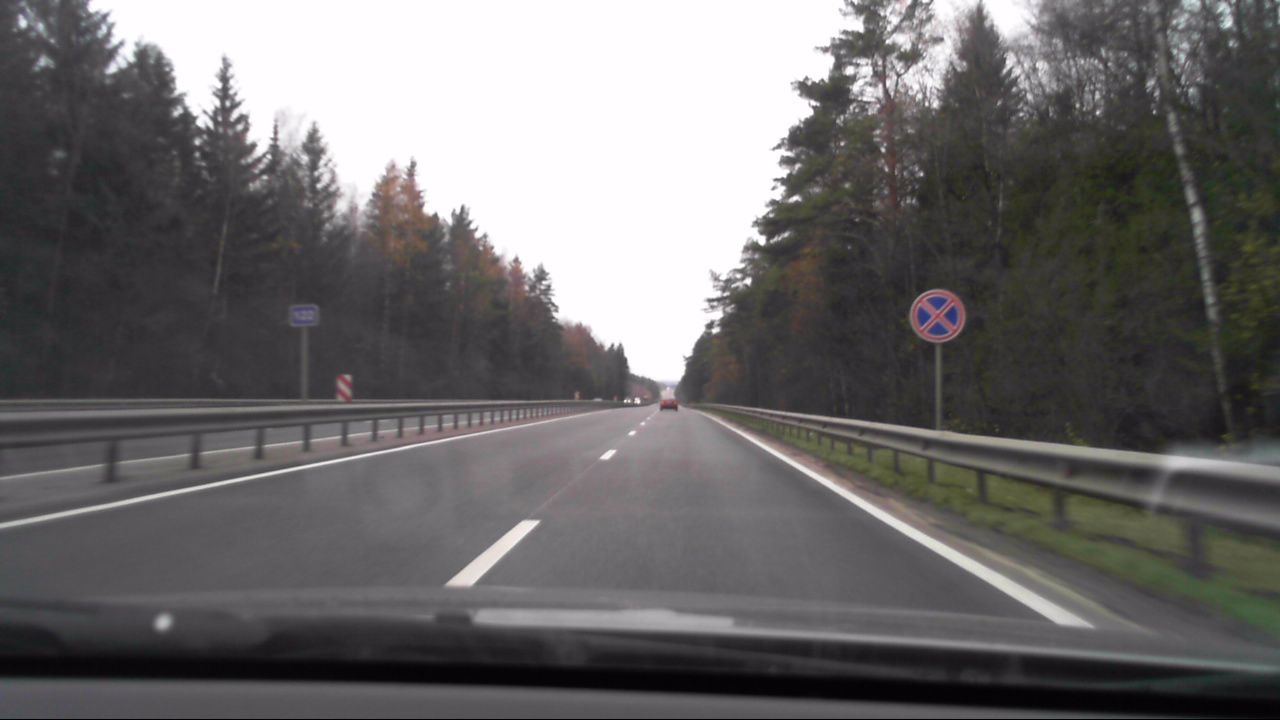No Parking: (906, 285, 964, 346)
